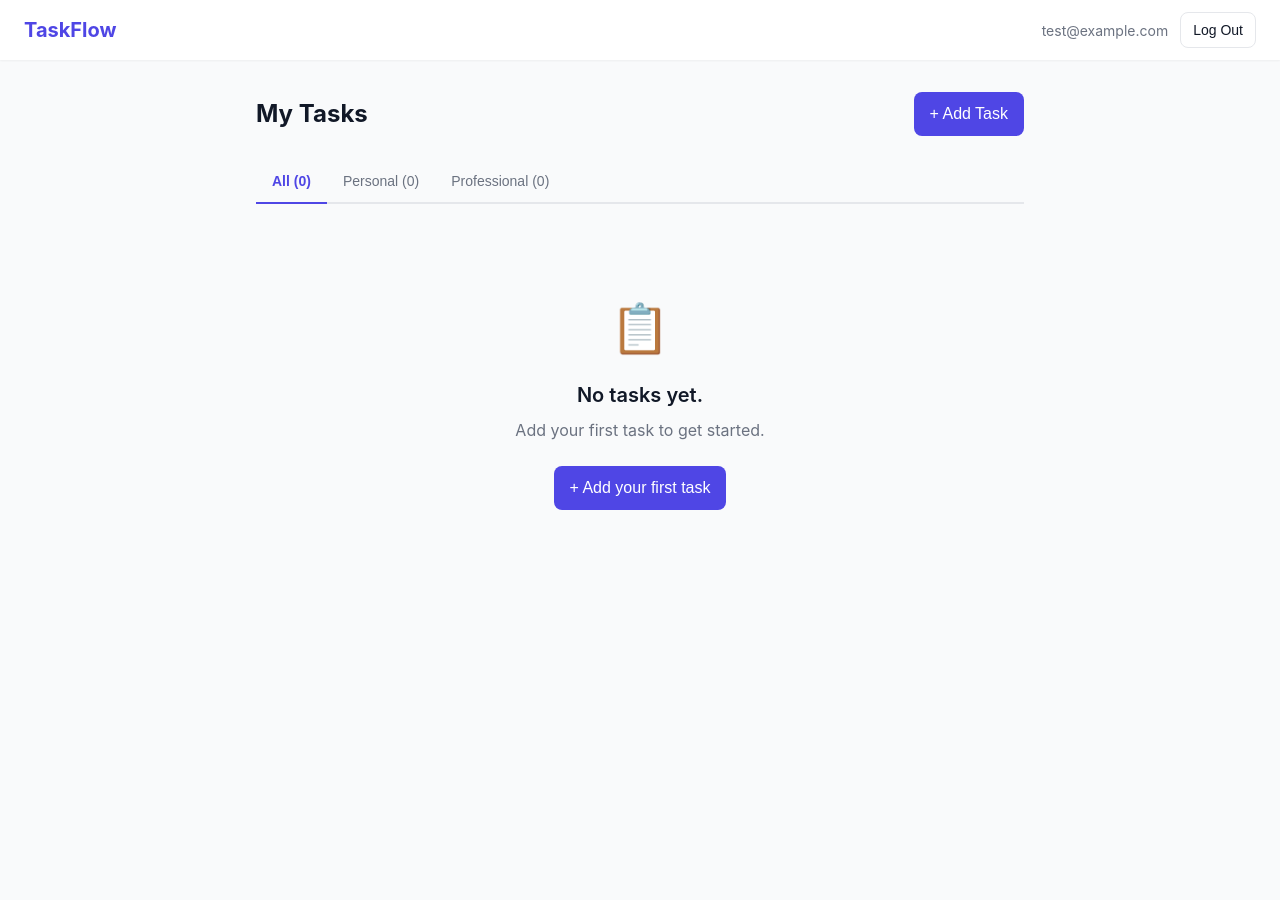
Test: Dashboard — Add Task modal › new task prepended to list on creation
This screenshot has width=1280, height=900.
Expected: the text "No tasks yet." is shown, [577,383,703,407]
Click the button "+ Add your first task" at (640, 488), box [554,466,726,510]
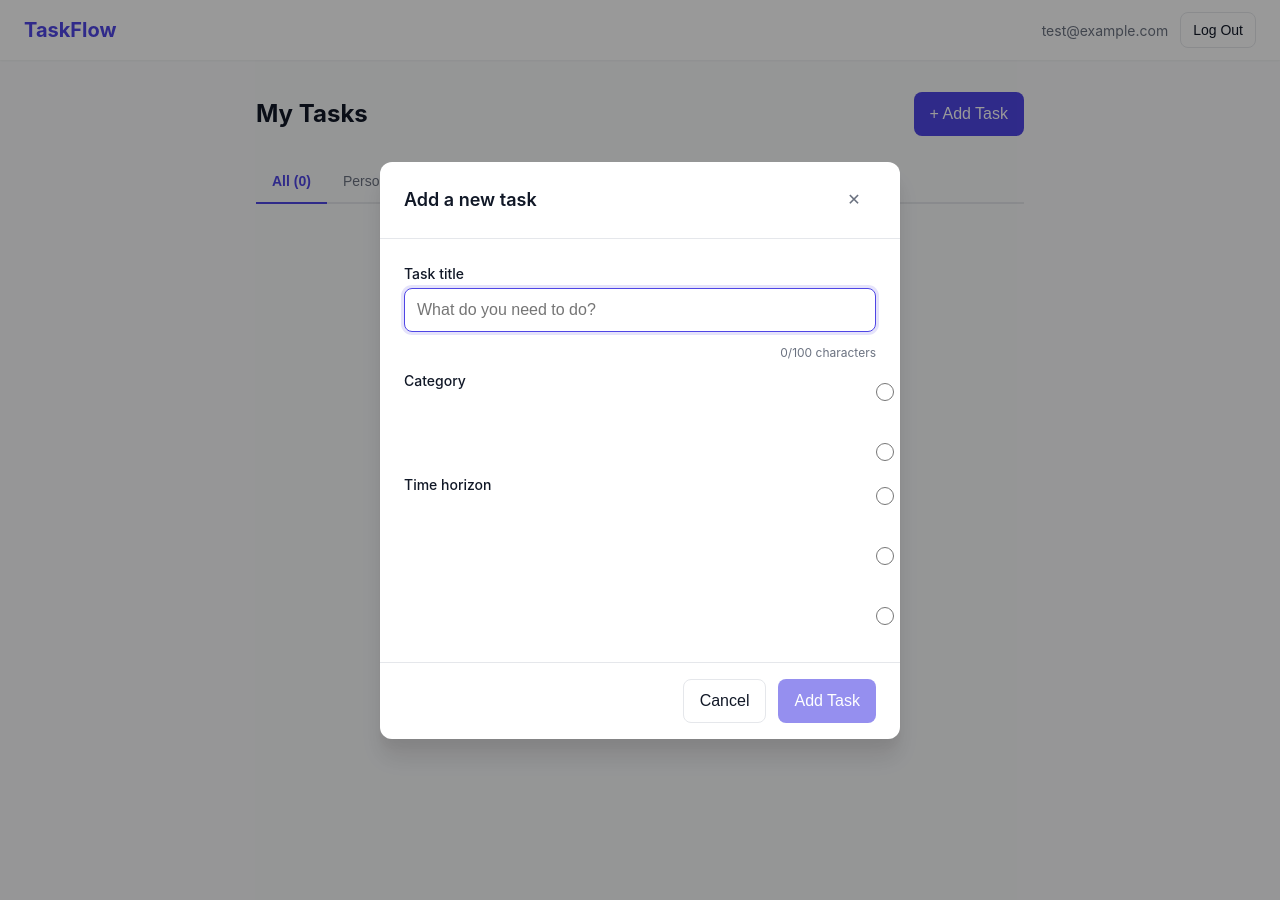
Expected: the dialog is shown, [380,162,900,738]
Type "Brand new task" into the field with placeholder "What do you need to do?" at (640, 310), box [404,288,876,332]
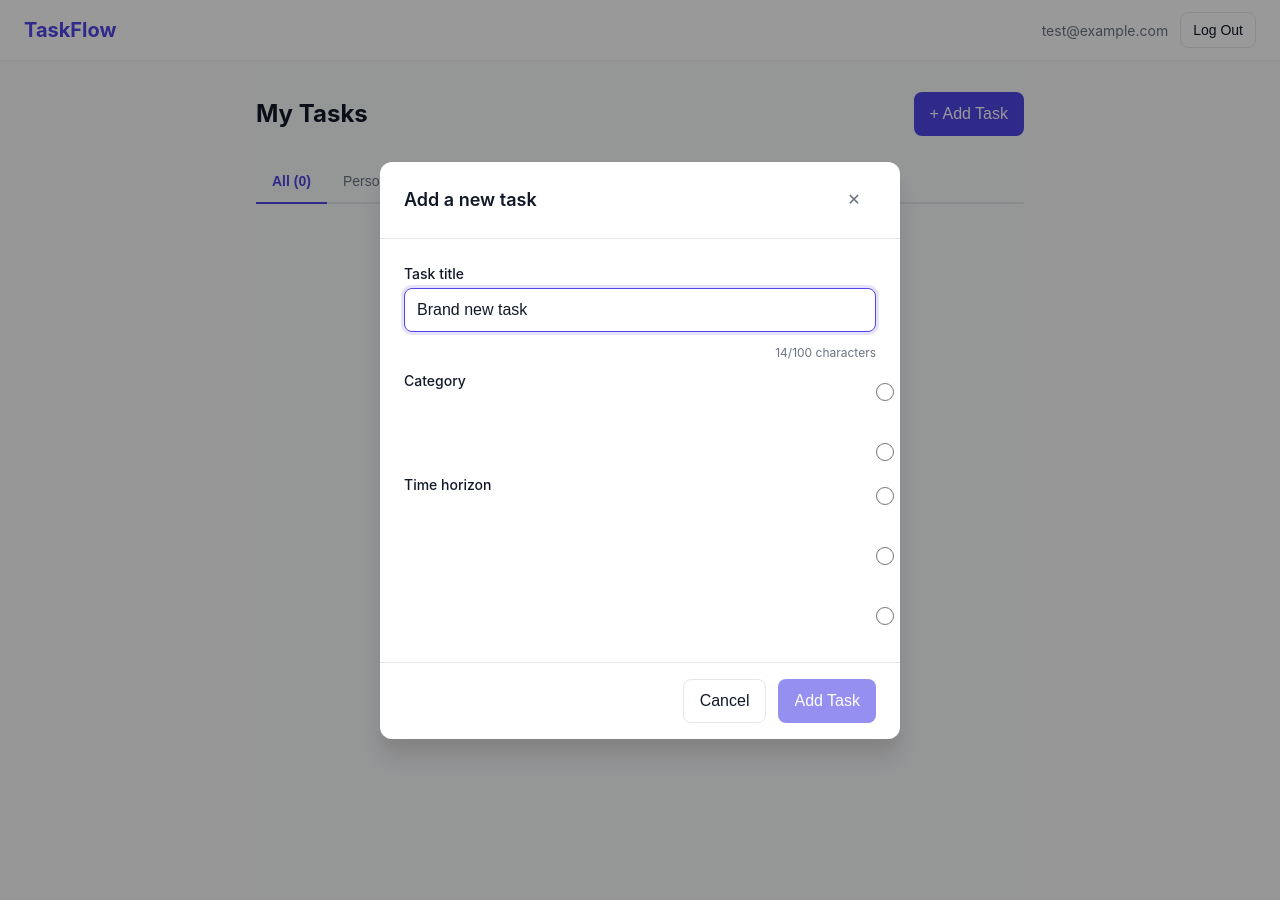
Click the radio button labelled "Personal" at (885, 392), box [876,382,894,400]
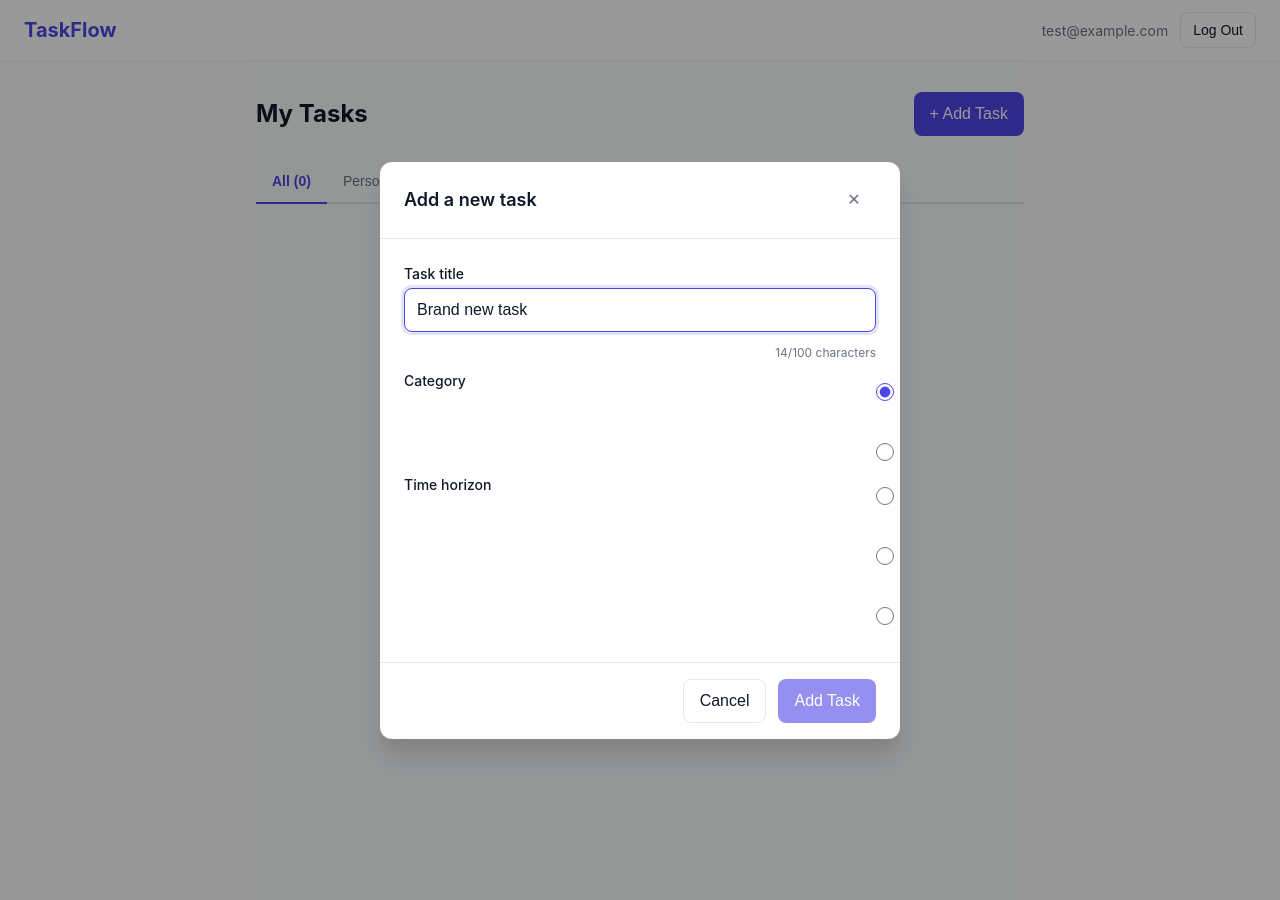
Click the radio button labelled "Daily" at (885, 496), box [876,486,894,504]
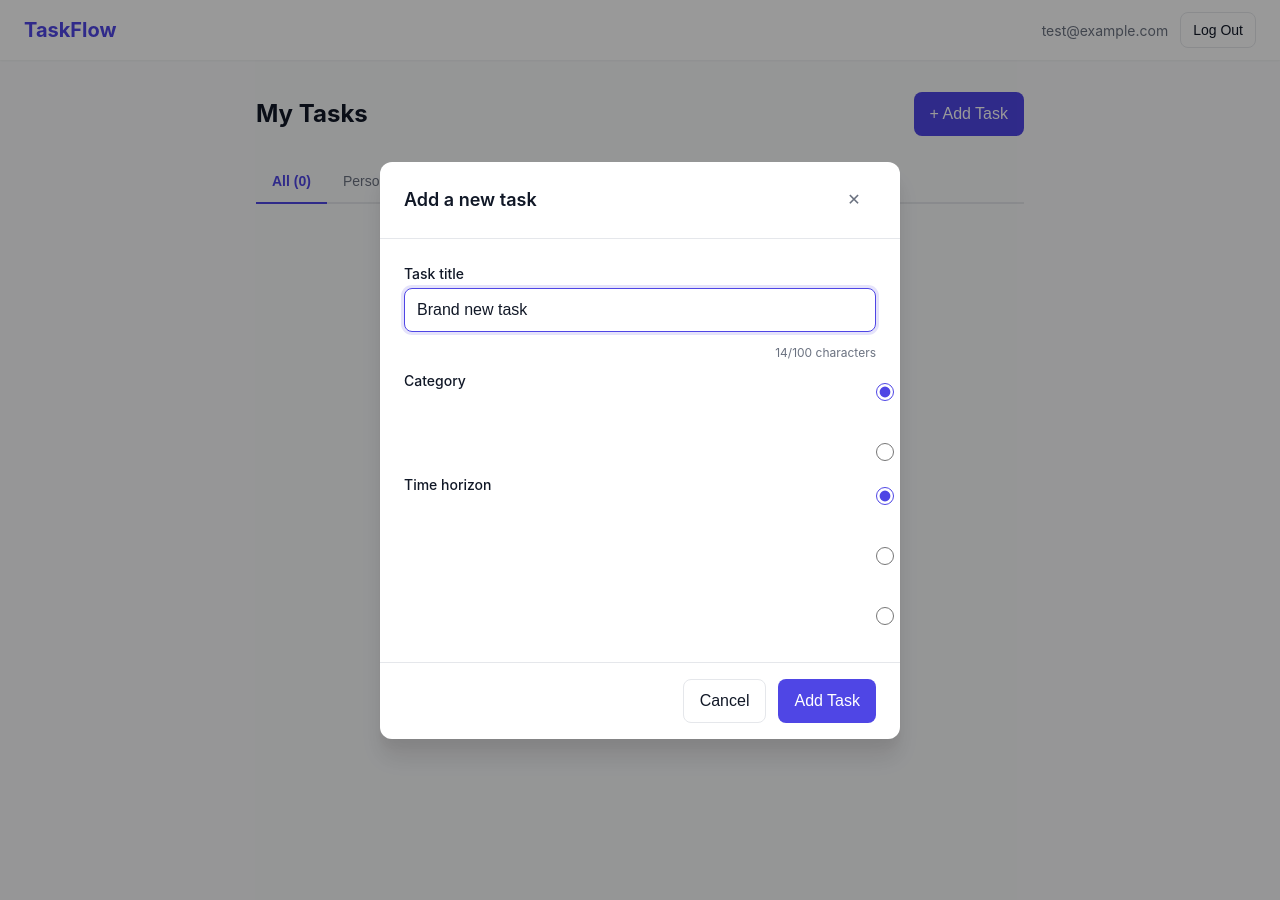
Click the button "Add Task" at (827, 700), box [778,678,876,722]
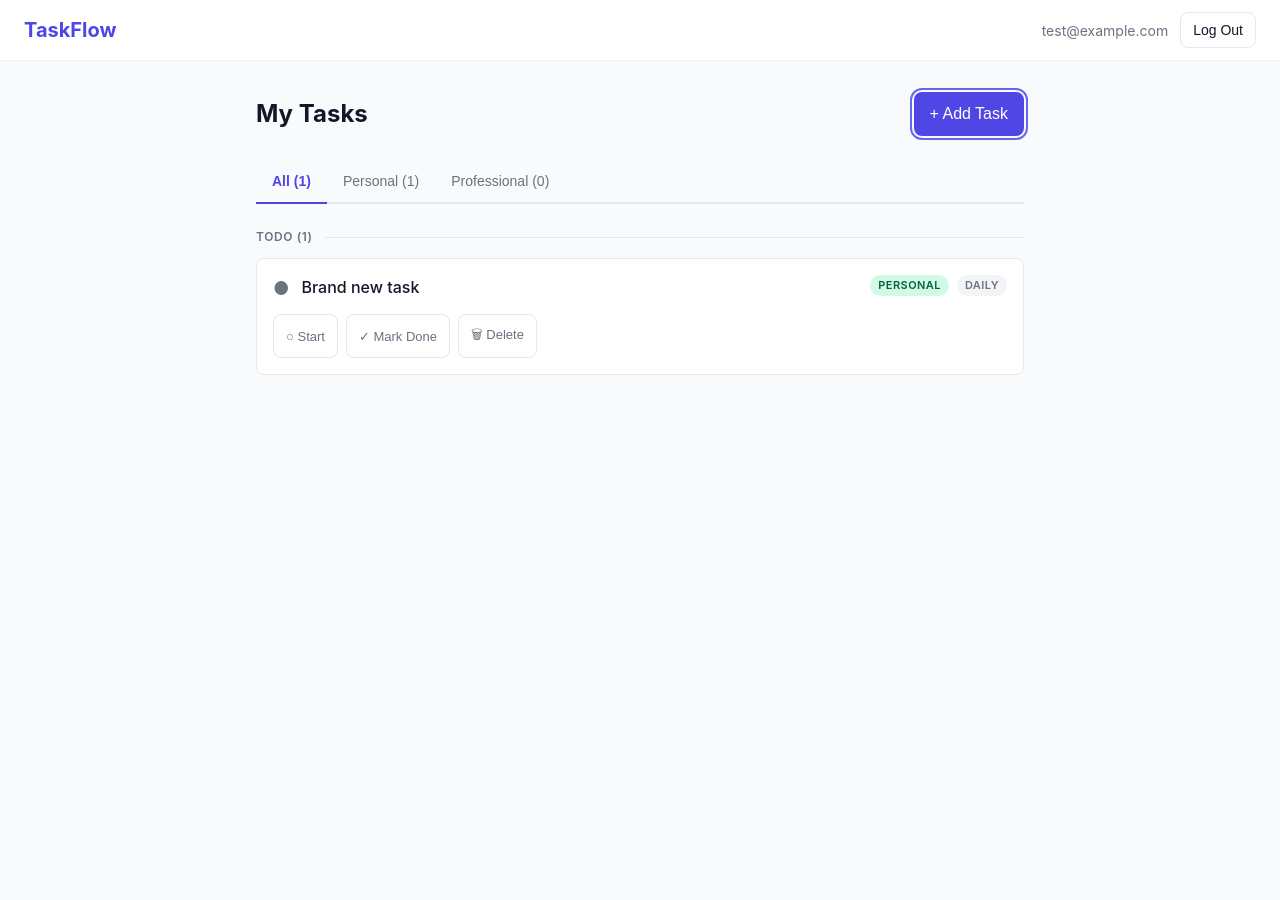
Expected: the text "Brand new task" is shown, [302,277,420,297]
